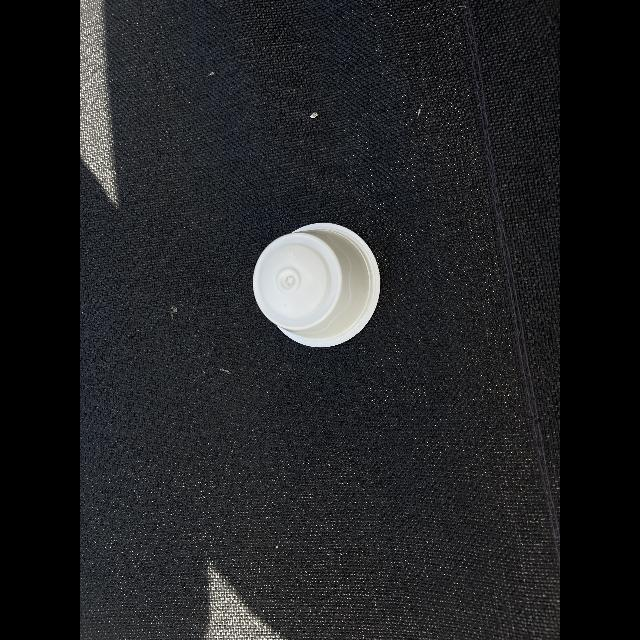intact_capsule: (245, 220, 401, 356)
